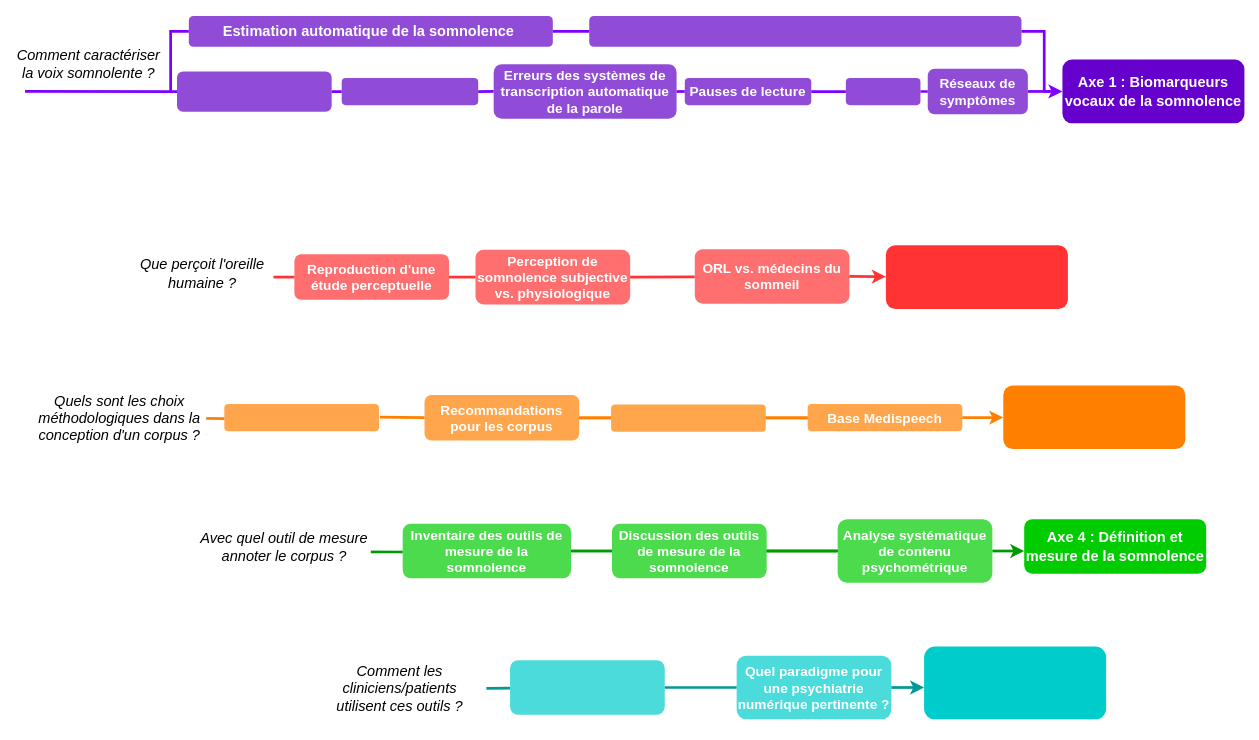
Image size: 1259x740. Some labels were removed from this diagram. Here are the shapes that lost their labels. From the top down, the centre of each, then its label:
(805,30): Identification de biomarqueurs vocaux de la somnolence
(254,91): Descripteurs acoustiques
(409,91): Erreurs de lecture
(882,91): Schwas
(976,276): Axe 2 : Perception de la somnolence dans la voix
(301,417): Base TILE
(688,417): Base SOMVOICE
(1094,417): Axe 3 : Conception de bases de données
(587,687): Quelle analogie entre raisonnement clinique et IA ?
(1015,682): Axe 5 : Raisonnement clinique et outils numériques
